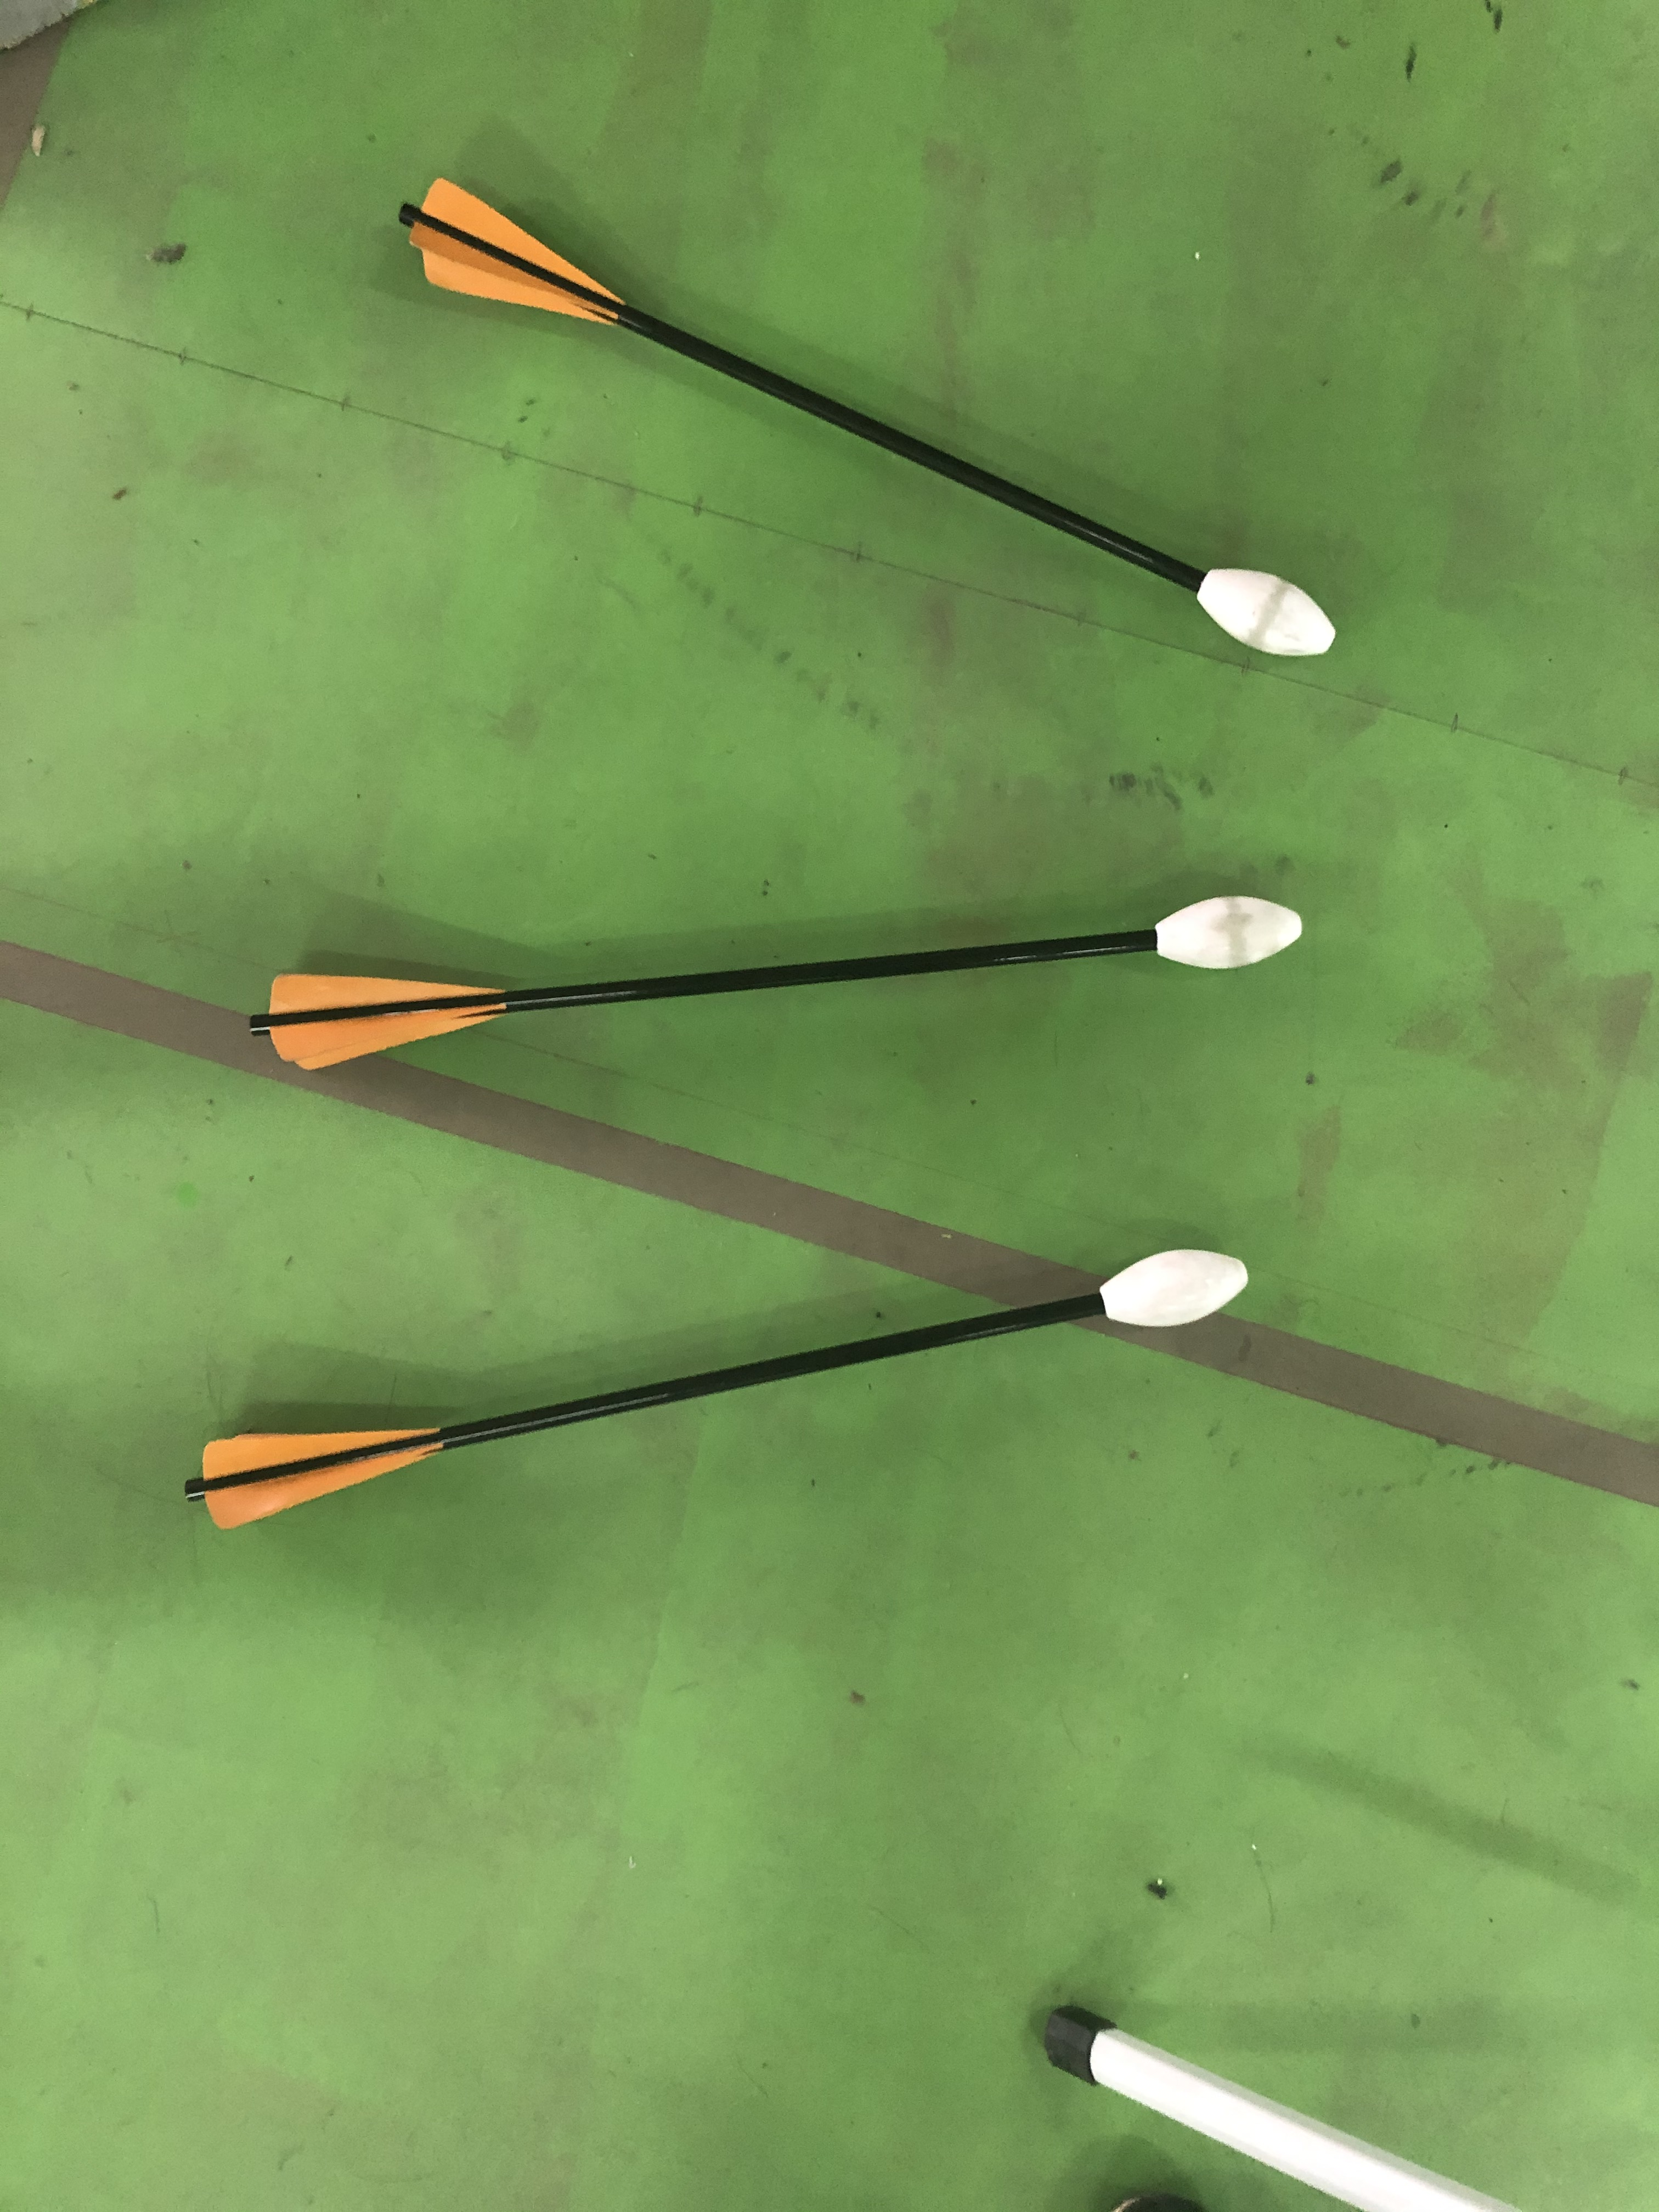arrow: (387, 169, 1344, 665), (174, 1224, 1256, 1540), (244, 890, 1310, 1071)
arrowFront: (1194, 554, 1349, 667), (1091, 1244, 1256, 1338), (1147, 887, 1312, 967)
